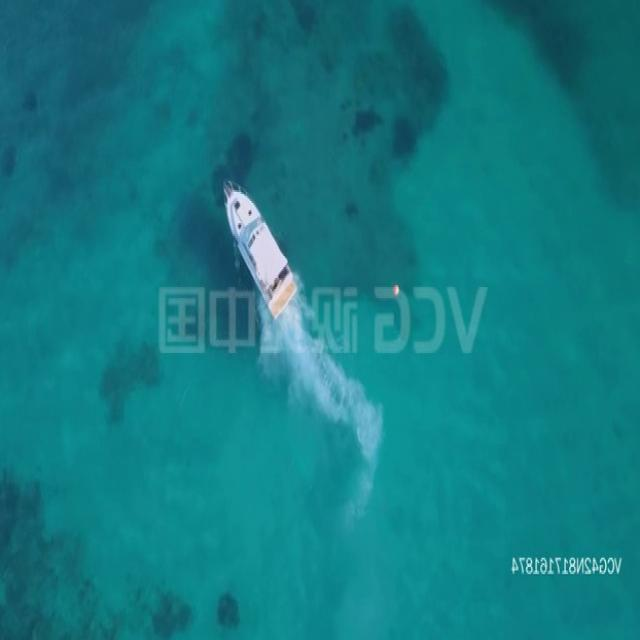houseboat: (220, 176, 302, 318)
